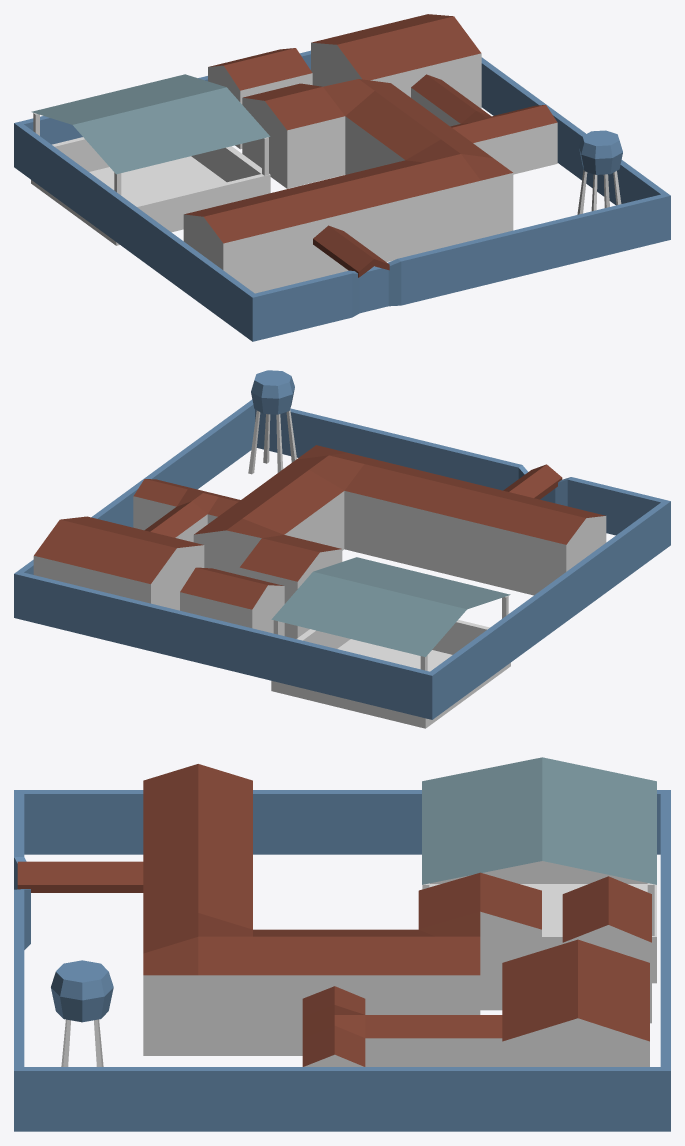
Rendered from JoaquimMurtinho.fbx.
The picture shows the model from 3 angles, top to bottom: view 1: azimuth 30°, elevation 25°; view 2: azimuth 150°, elevation 25°; view 3: azimuth 270°, elevation 25°; orthographic projection. The views are drawn at different scales.
Visible parts, largest first — view 1: Cube.001, Cube; view 2: Cube.001, Cube; view 3: Cube.001, Cube.
Part boxes in pixels (x1=…): Cube.001: x1=31, y1=14, x2=622, y2=293; Cube: x1=14, y1=50, x2=670, y2=341; Cube.001: x1=33, y1=370, x2=606, y2=728; Cube: x1=14, y1=399, x2=670, y2=719; Cube.001: x1=17, y1=757, x2=656, y2=1066; Cube: x1=14, y1=790, x2=670, y2=1131.
Bounding box in the file's own units: 1985 × 497 × 1961.
